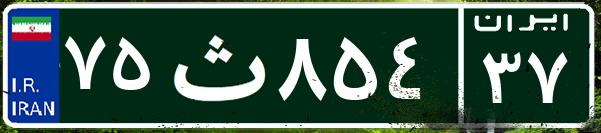3: (475, 38, 525, 113)
4: (385, 28, 445, 110)
5: (330, 28, 385, 110), (110, 28, 158, 105)
7: (57, 26, 110, 107), (525, 38, 570, 115)
8: (273, 28, 330, 110)
ث: (158, 15, 273, 115)
